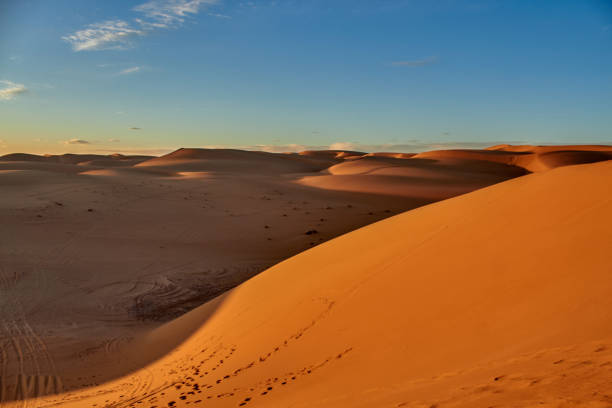animal_footprint: (122, 298, 349, 405), (249, 347, 351, 396)
